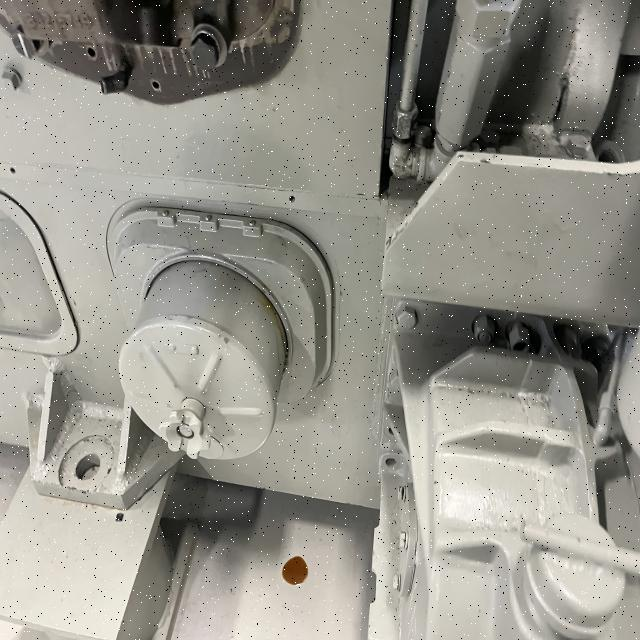Oil Leak: (240, 278, 292, 400), (277, 553, 313, 589)
